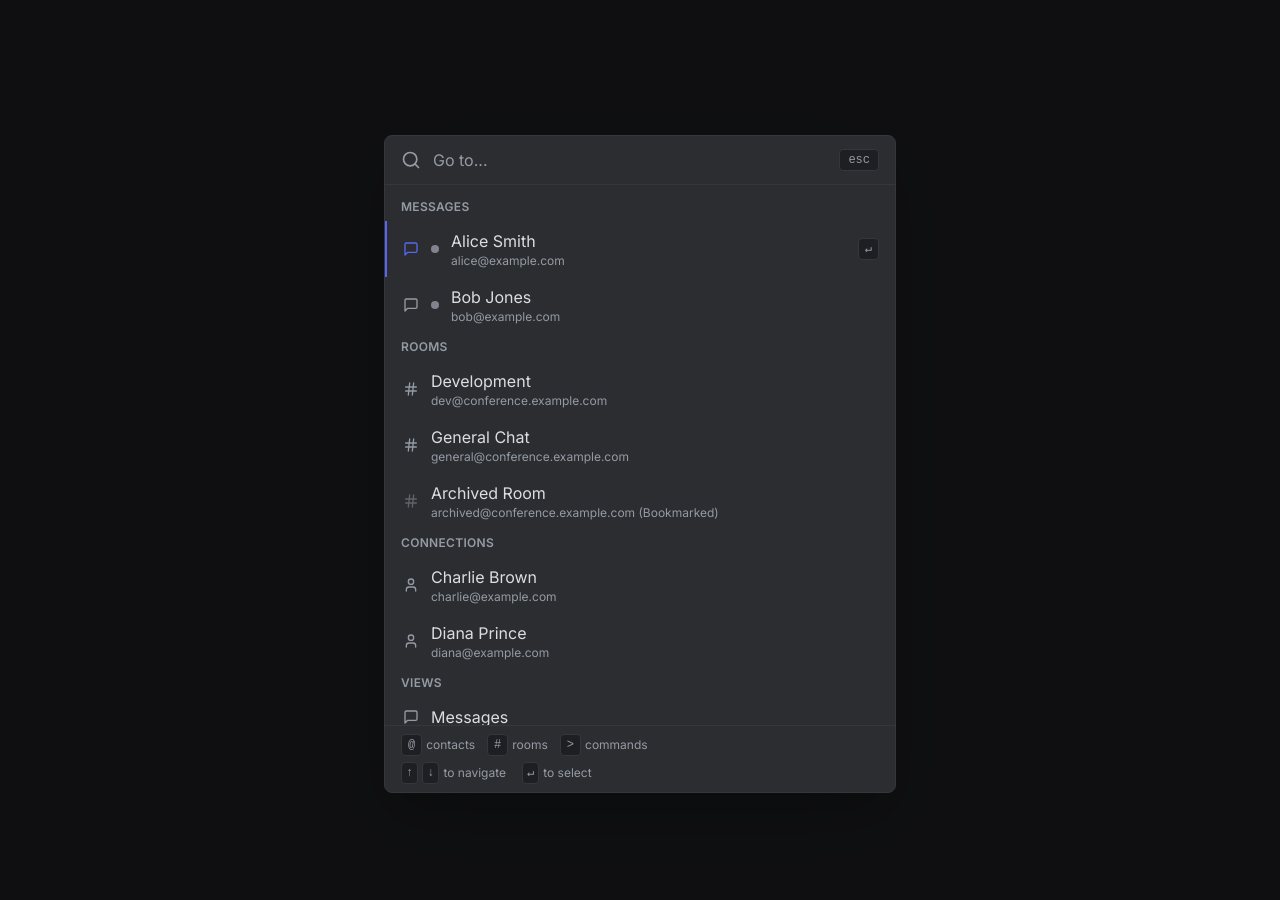
it: CommandPalette › Search Filtering › should not match on JID domain
This screenshot has width=1280, height=900.
Note: Searching for domain should not match conversations/contacts
Type "example.com" into the field with placeholder "Go to..." at [630, 160], box x1=433 y1=148 x2=827 y2=172
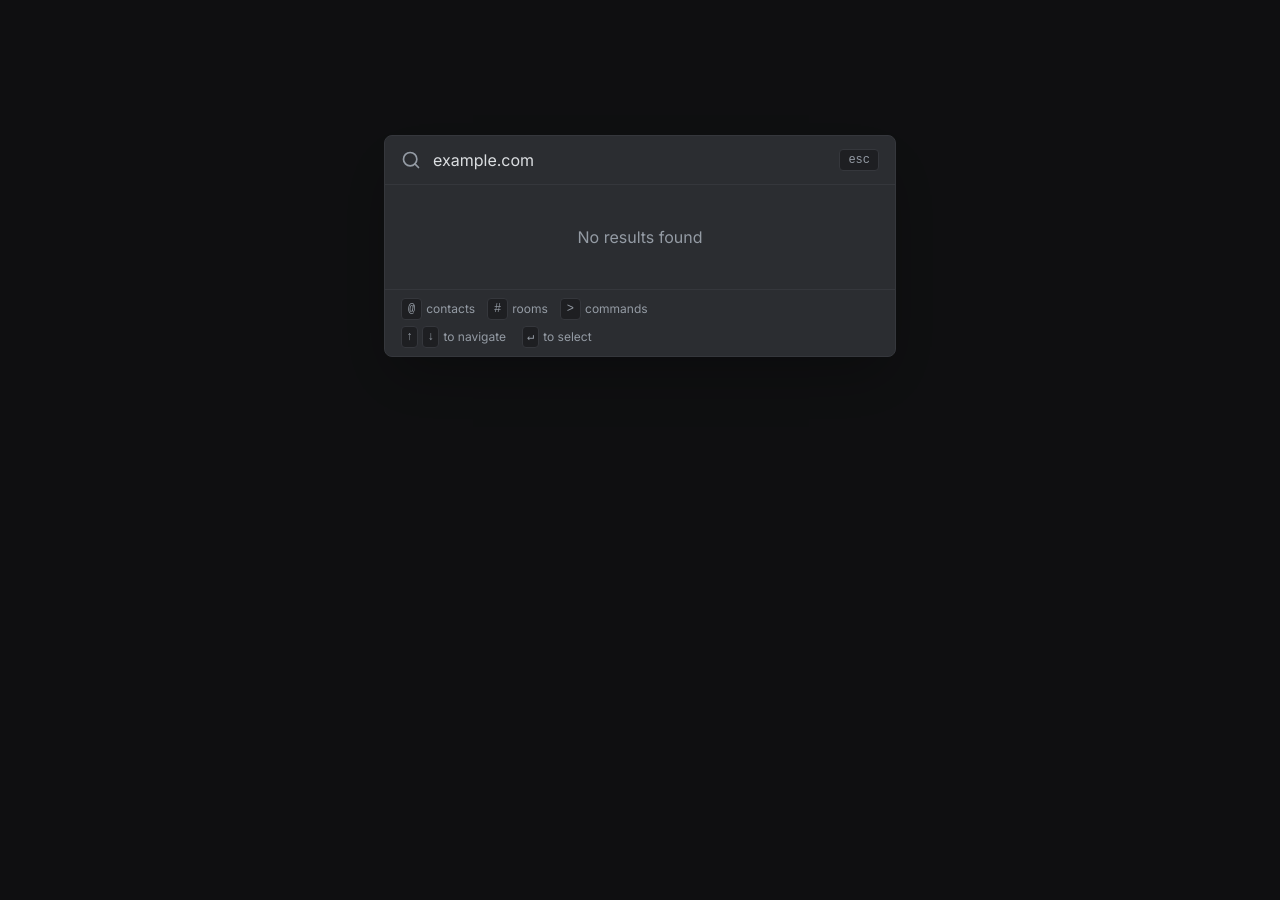
Result: the button "Bob Jones" is gone
Result: the button "Alice Smith" is gone
